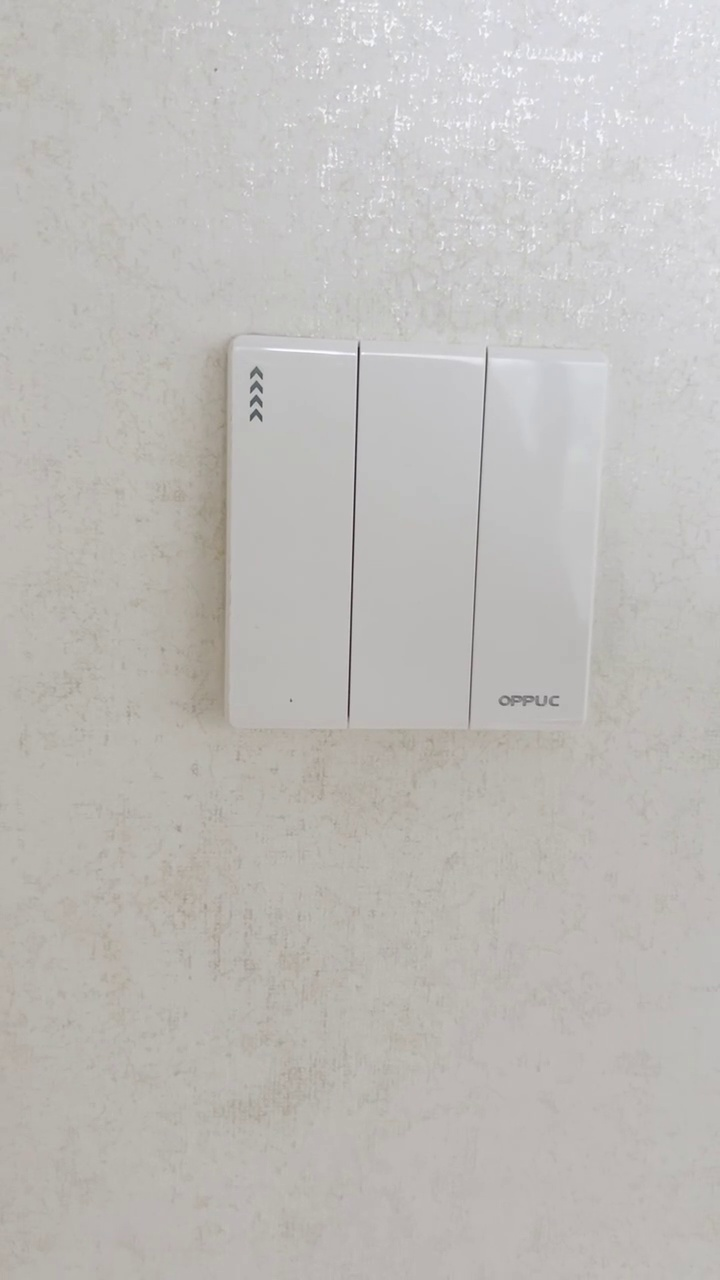button1: (355, 350, 482, 724), (476, 355, 599, 725), (235, 341, 351, 728)
